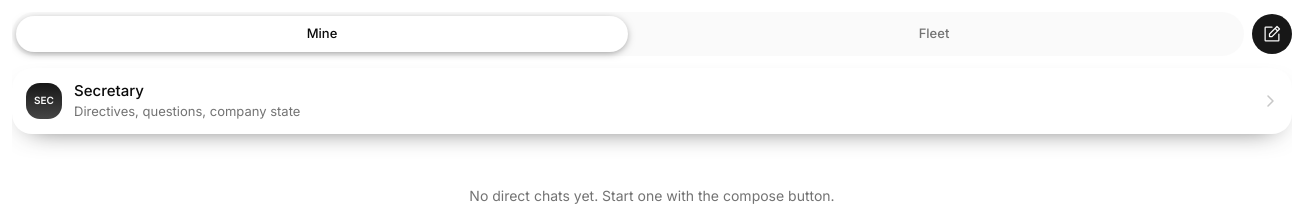
Test: TgChatTab — list › Fleet scope lists agent↔agent threads and hides CEO pairs
Click the button "Fleet" at x=934, y=34, box [628,16,1240,52]
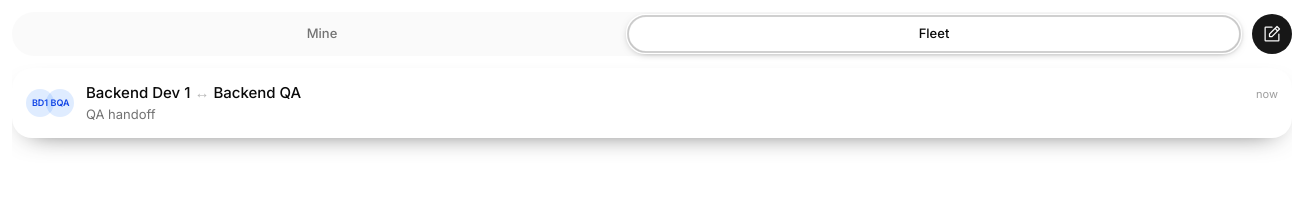
Check: the text "QA handoff" is shown, box [86,106,156,122]
